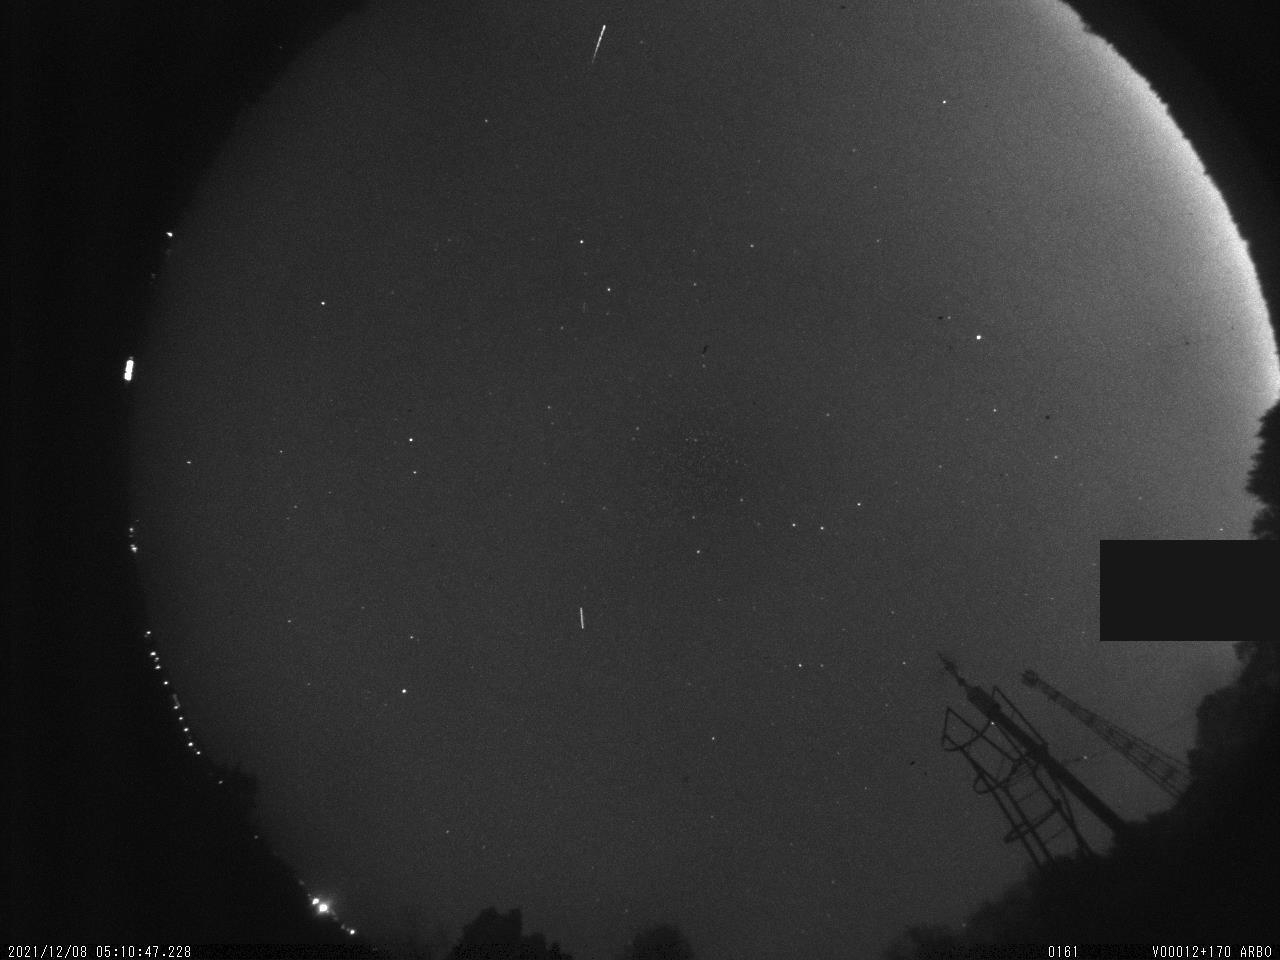meteor: (586, 17, 616, 78)
satelite: (572, 597, 594, 637)
